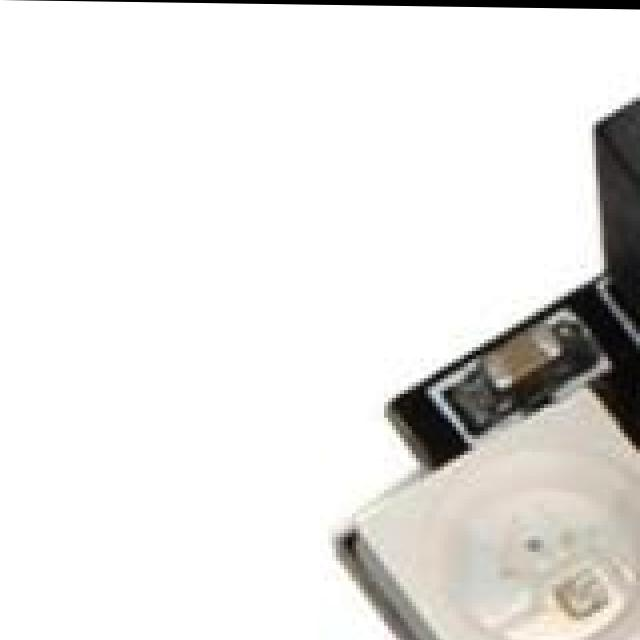LED: (335, 370, 640, 640)
buzzer: (543, 71, 640, 272)
capacitor: (476, 310, 576, 391)
